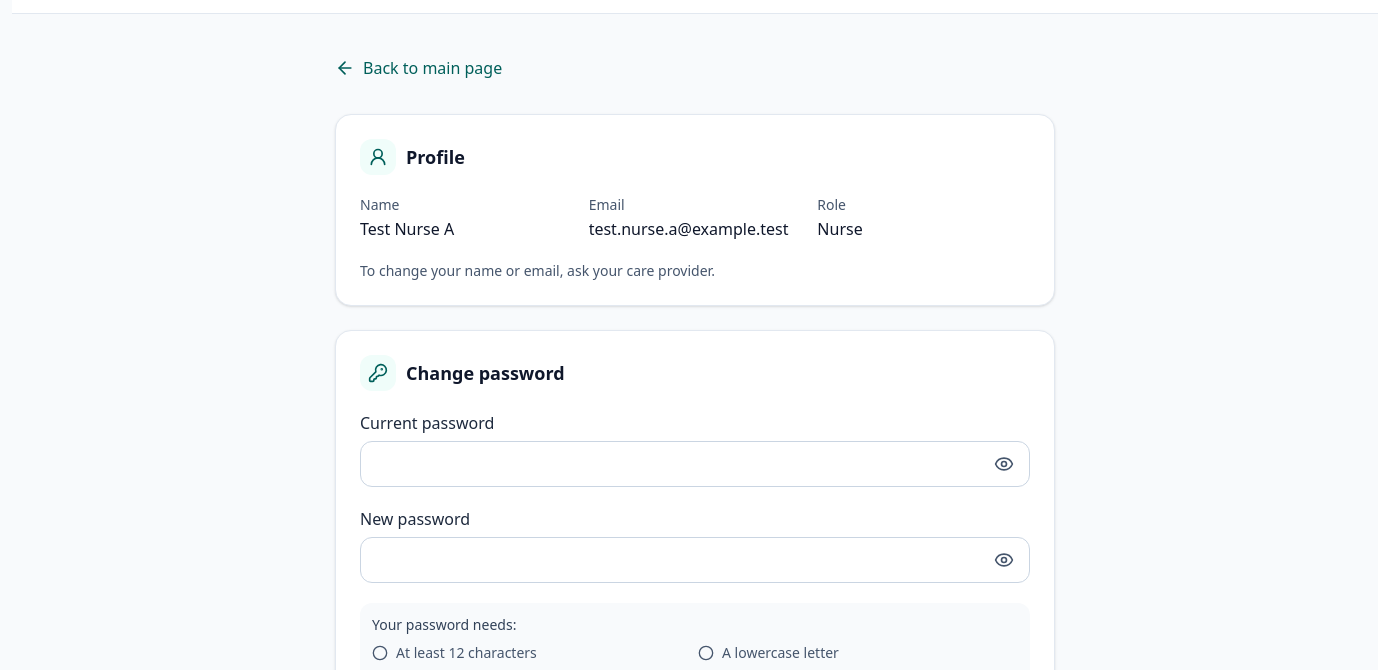
Test: change password › shows a busy, disabled button while saving
Step 1. Type "Test-Passw0rd!2026" into the password field labelled "Current password" → (695, 464), box [360, 441, 1030, 487]
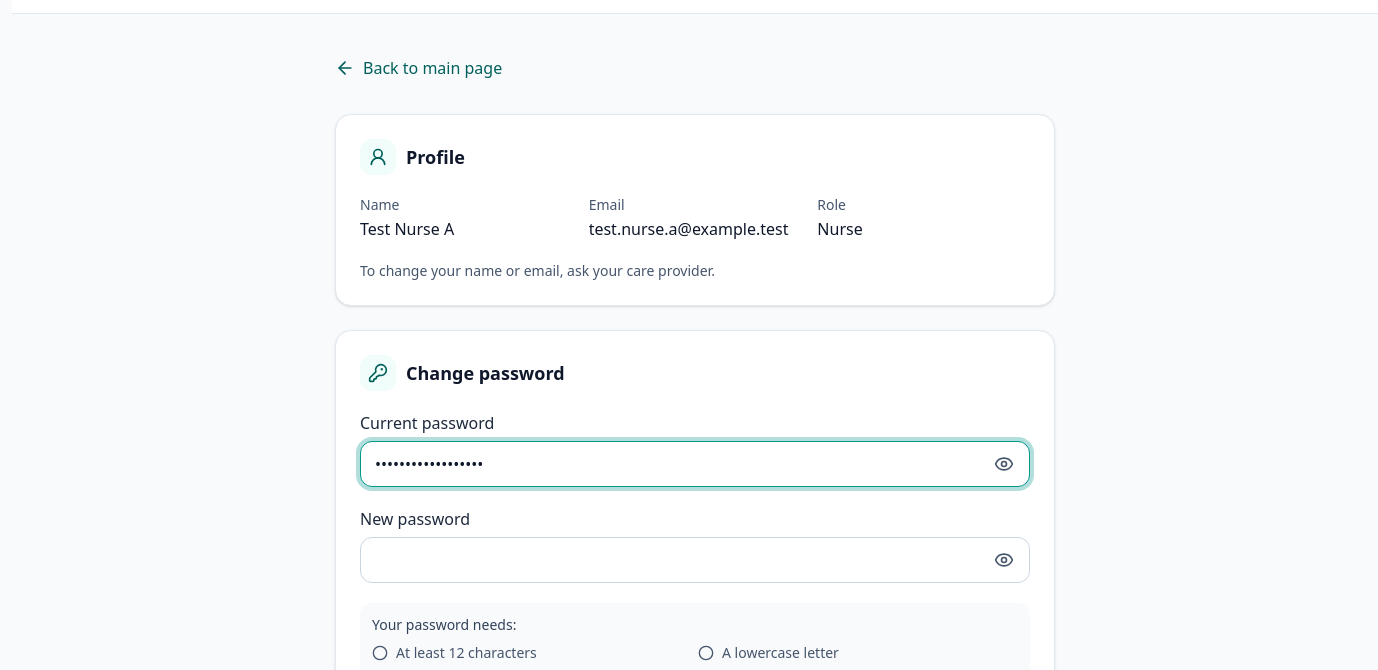
Step 2. Type "Another#Test9Pass" into the password field labelled "New password" → (695, 560), box [360, 537, 1030, 583]
(page scrolled)
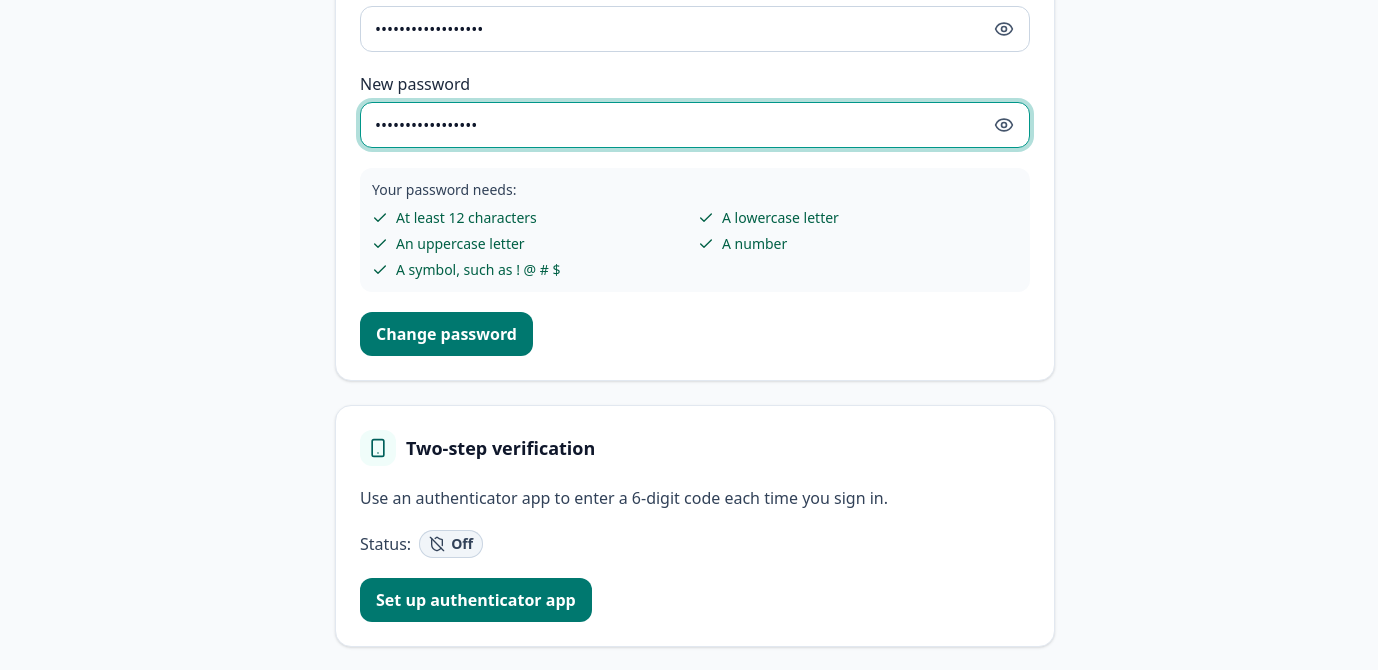
Step 3. Click the button "Change password" → (446, 334), box [360, 312, 533, 356]
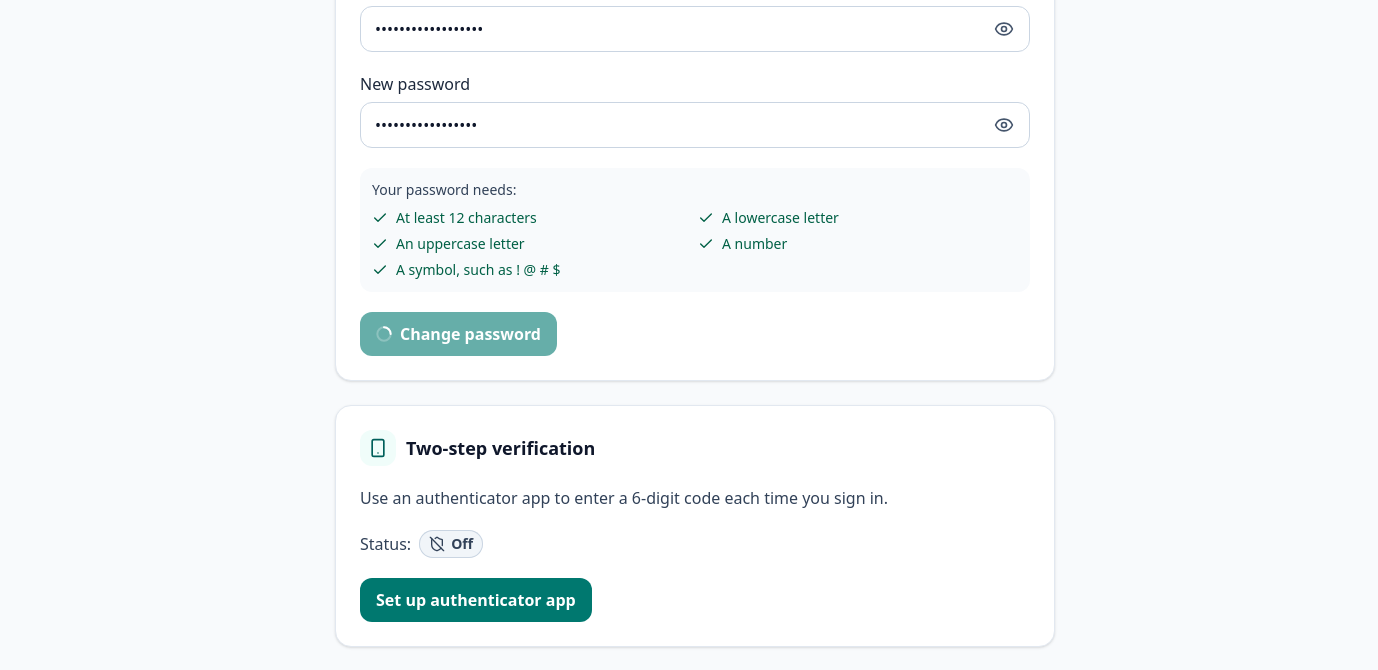
Now the button "Change password" is disabled, box [360, 312, 557, 356]
